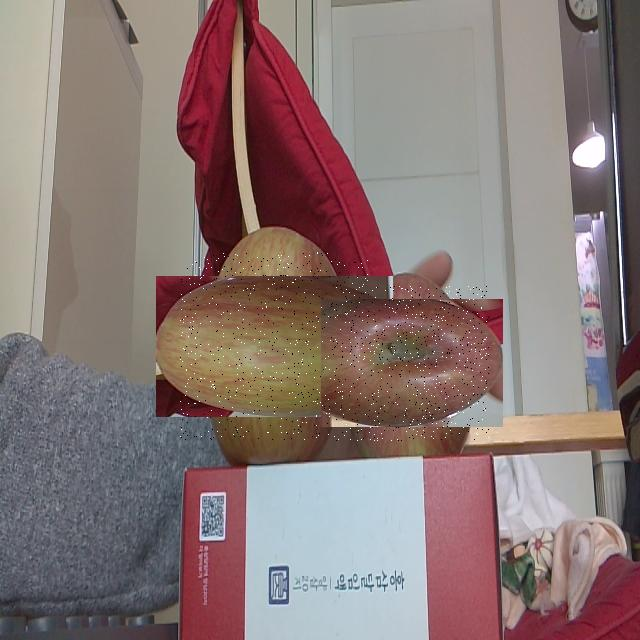apple: (180, 252, 369, 441), (334, 286, 489, 441)
